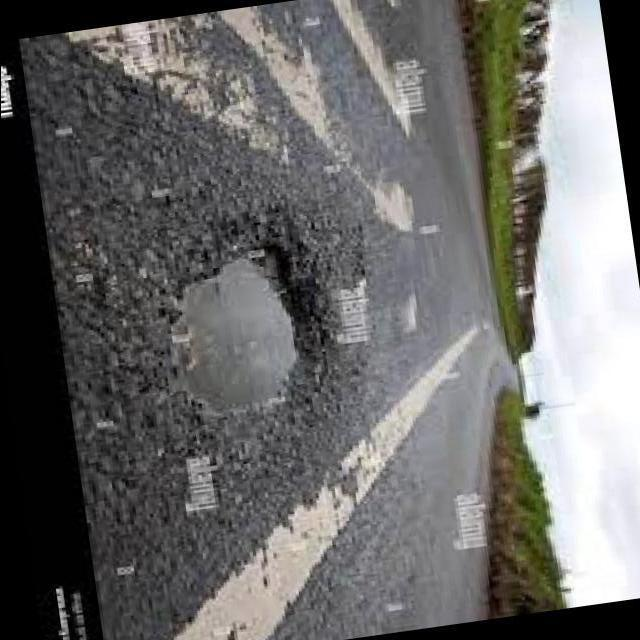pothole: (167, 255, 296, 414)
